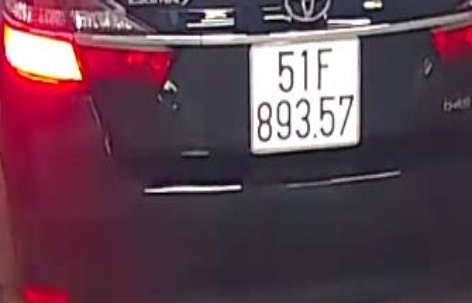plate: (248, 44, 363, 148)
